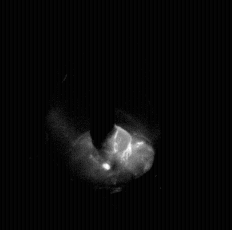arame: (91, 0, 117, 153)
poca: (64, 0, 156, 230)
